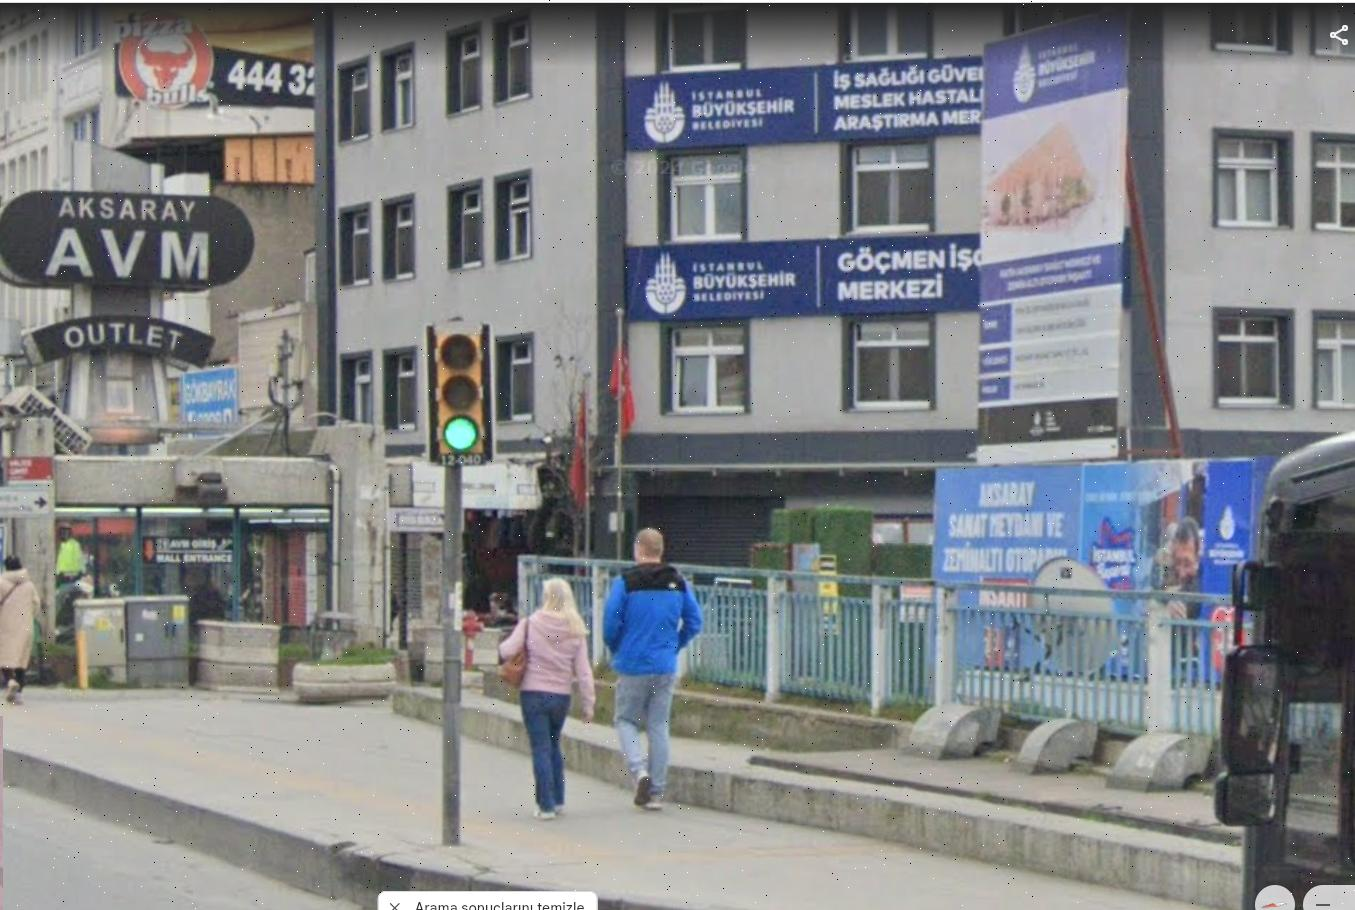greenlight: (430, 332, 489, 452)
